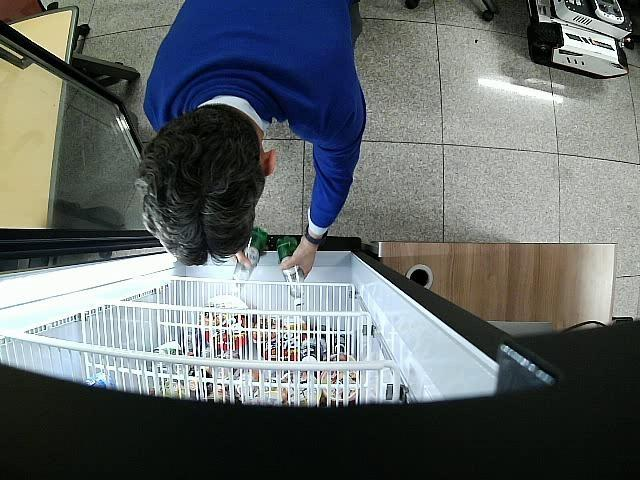18_trevi: (232, 227, 268, 291), (278, 239, 305, 306)
